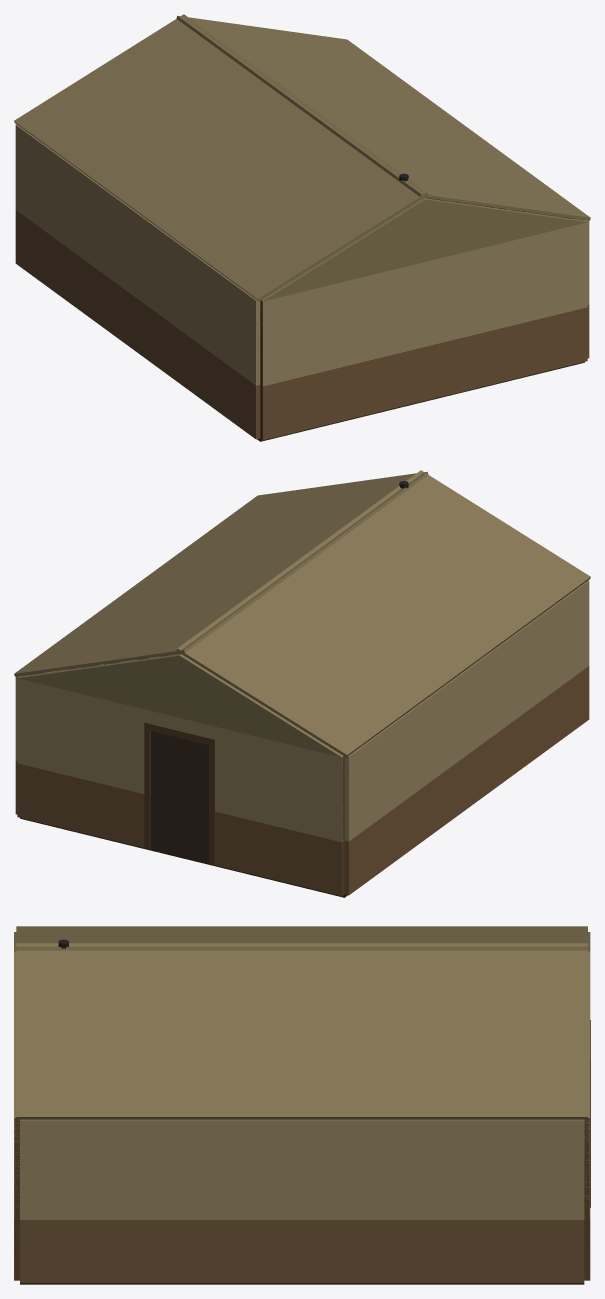
Rendered from BunkRoomC.glb.
3 views of the same model, one above another, from view 1: azimuth 30°, elevation 25°; view 2: azimuth 150°, elevation 25°; view 3: azimuth 270°, elevation 25° (orthographic). The views are drawn at different scales.
Visible parts, largest first — view 1: BunkRoomC; view 2: BunkRoomC; view 3: BunkRoomC.
Boxes of the visible parts, x1=… form: BunkRoomC: x1=14, y1=14, x2=590, y2=441; BunkRoomC: x1=14, y1=470, x2=590, y2=897; BunkRoomC: x1=14, y1=926, x2=590, y2=1284.
Bounding box in the file's own units: 6.16 × 3.76 × 7.87.
